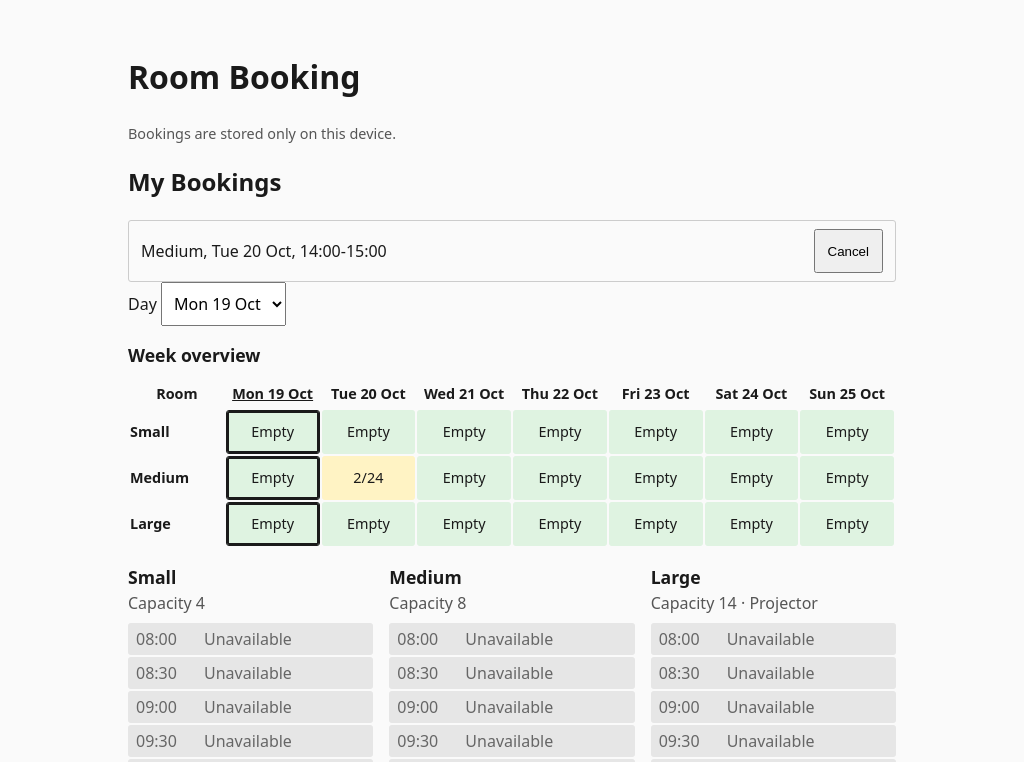
Test: My Bookings › shows the refusal and keeps the row when the Booking is gone from storage
The width and height of the screenshot is (1024, 762).
Click the button with aria-label "Cancel Medium" at (848, 251), box top-left (814, 229), bottom-right (883, 273)
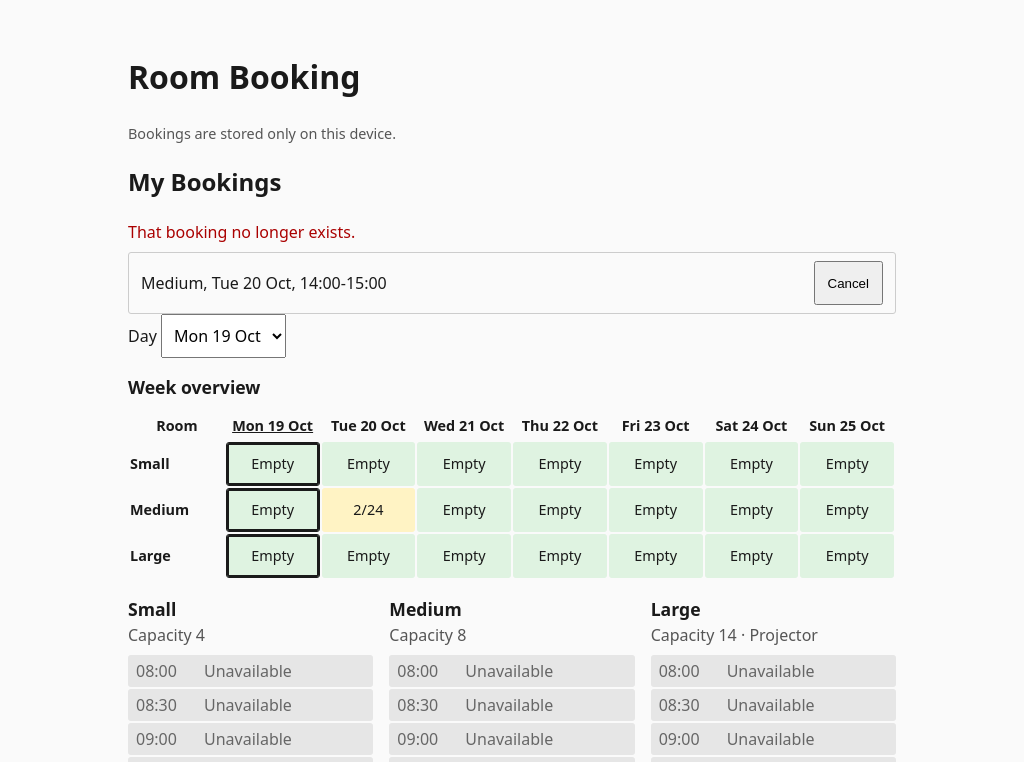
expect the message shows "no longer exists": met, box top-left (128, 221), bottom-right (355, 243)
